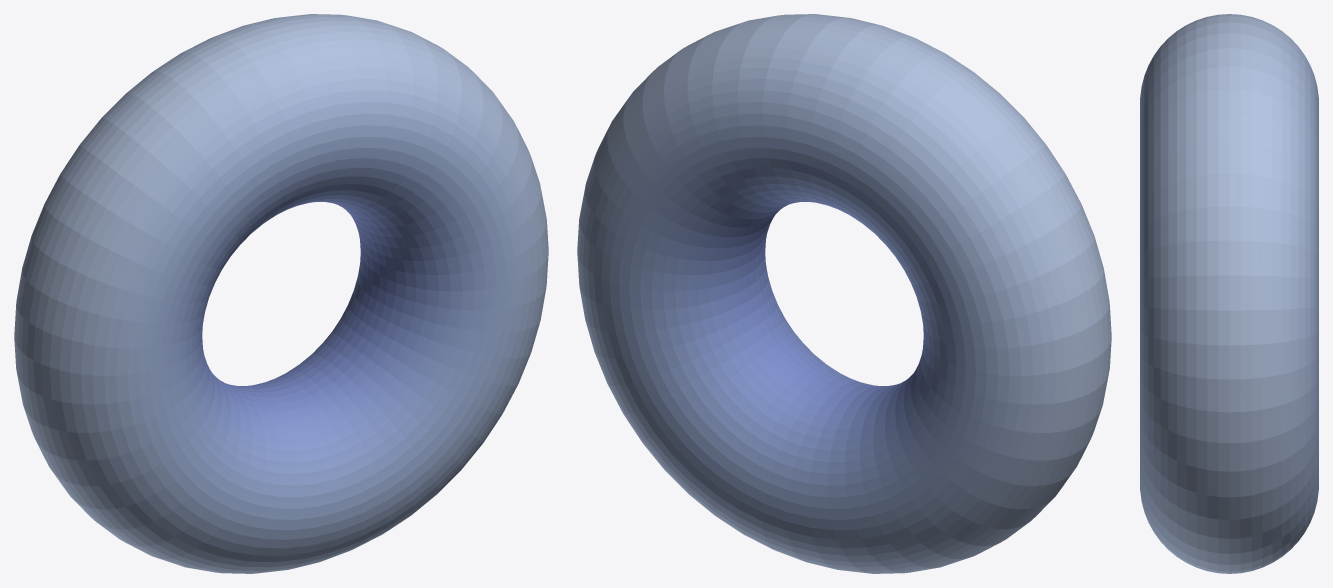
3 renders of one model, left to right at view 1: azimuth 30°, elevation 25°; view 2: azimuth 150°, elevation 25°; view 3: azimuth 270°, elevation 25°, orthographic. The views are drawn at different scales.
Parts seen in each view (by area): view 1: world; view 2: world; view 3: world.
Boxes of the visible parts, <box> form: world: <box>14,14,548,573</box>; world: <box>577,14,1111,573</box>; world: <box>1140,14,1318,573</box>.
Bounding box in the file's own units: 19.6 × 19.56 × 6.25.
